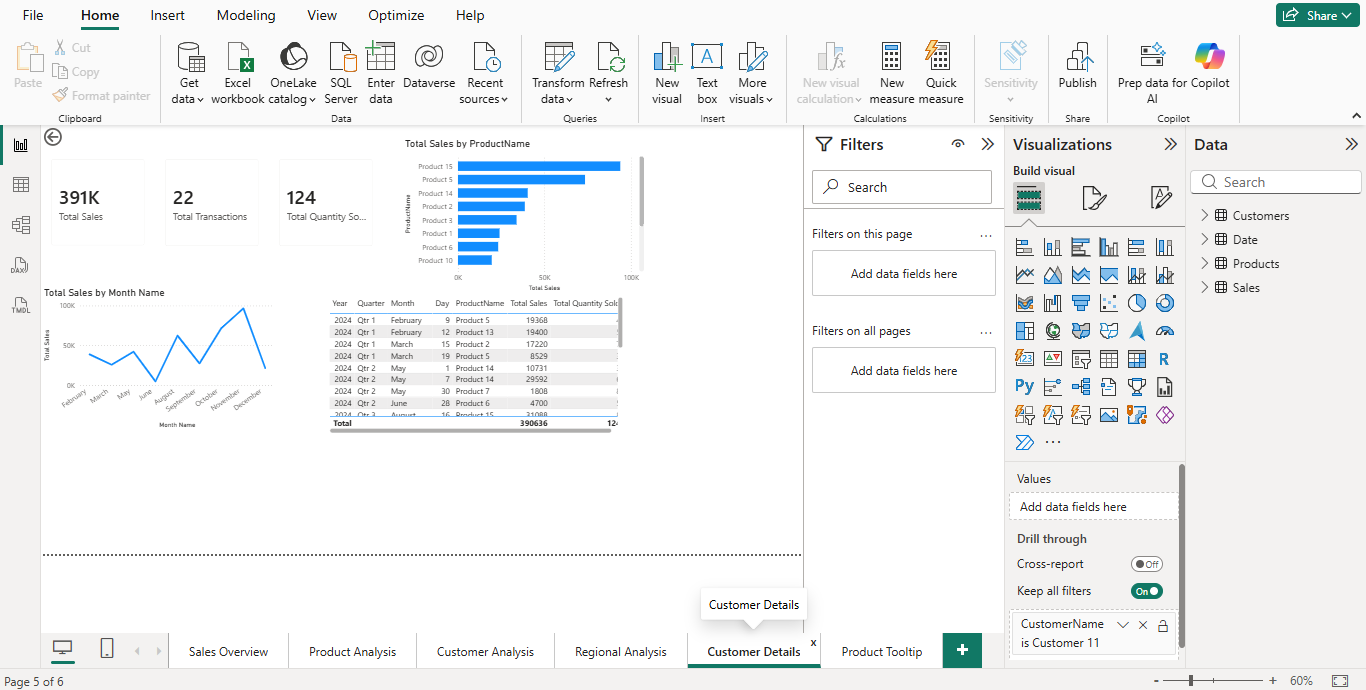

The page's visual inventory and layout, read from the dashboard file:
{"tool":"powerbi","page":{"name":"Customer Details","canvas":[1280,720],"ordinal":4},"visuals":[{"type":"actionButton","box":[0,0,100,40],"z":0},{"type":"cardVisual","fields":{"Data":["Sales.Total Sales"]},"box":[0,40.3,191.5,179.7],"z":1000},{"type":"cardVisual","fields":{"Data":["Sales.Total Transactions"]},"box":[191.5,40.3,191,180],"z":2000},{"type":"cardVisual","fields":{"Data":["Sales.Total Quantity Sold"]},"box":[383,40.3,191,180],"z":3000},{"type":"lineChart","fields":{"Category":["Date.Month Name"],"Y":["Sales.Total Sales"]},"box":[0,270.4,396.4,243.6],"z":4000},{"type":"clusteredBarChart","fields":{"Category":["Products.ProductName"],"Y":["Sales.Total Sales"]},"box":[606.4,20.2,411.5,263.7],"z":5000},{"type":"tableEx","fields":{"Values":["Date.Date.Variation.Date Hierarchy.Year","Date.Date.Variation.Date Hierarchy.Quarter","Date.Date.Variation.Date Hierarchy.Month","Date.Date.Variation.Date Hierarchy.Day","Products.ProductName","Sales.Total Sales","Sales.Total Quantity Sold"]},"box":[478.7,283.9,503.9,238.5],"z":6000}]}

Visuals, with their boxes on the page's 1280x720 design canvas (x1, y1, x2, y2). These are canvas units, not pixel positions in the 1366x690 screenshot, which may show the page scaled, cropped or inside an application window:
actionButton: [0,0,100,40]
cardVisual - Sales.Total Sales: [0,40,192,220]
cardVisual - Sales.Total Transactions: [192,40,382,220]
cardVisual - Sales.Total Quantity Sold: [383,40,574,220]
lineChart - Date.Month Name x Sales.Total Sales: [0,270,396,514]
clusteredBarChart - Products.ProductName x Sales.Total Sales: [606,20,1018,284]
tableEx - Date.Date.Variation.Date Hierarchy.Year x Date.Date.Variation.Date Hierarchy.Quarter: [479,284,983,522]
